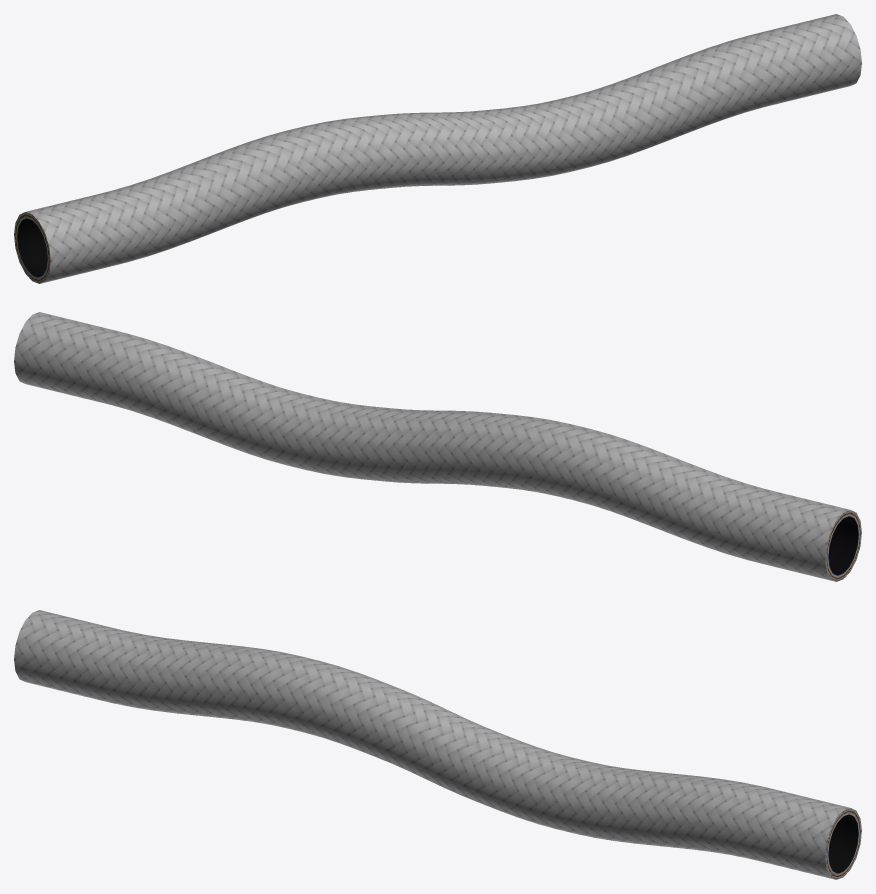
3 views of the same model, one above another, from view 1: azimuth 30°, elevation 25°; view 2: azimuth 150°, elevation 25°; view 3: azimuth 330°, elevation 25° (orthographic).
Parts seen in each view (by area): view 1: ProBlack_SB_SS-12; view 2: ProBlack_SB_SS-12; view 3: ProBlack_SB_SS-12.
Boxes of the visible parts, box(x1,y1,x2,y2) form: ProBlack_SB_SS-12: box(14, 14, 861, 283); ProBlack_SB_SS-12: box(14, 312, 861, 581); ProBlack_SB_SS-12: box(14, 610, 861, 879).
Bounding box in the file's own units: 0.3074 × 0.0369 × 0.0242.
Materials: 2 (2 with a texture image).
